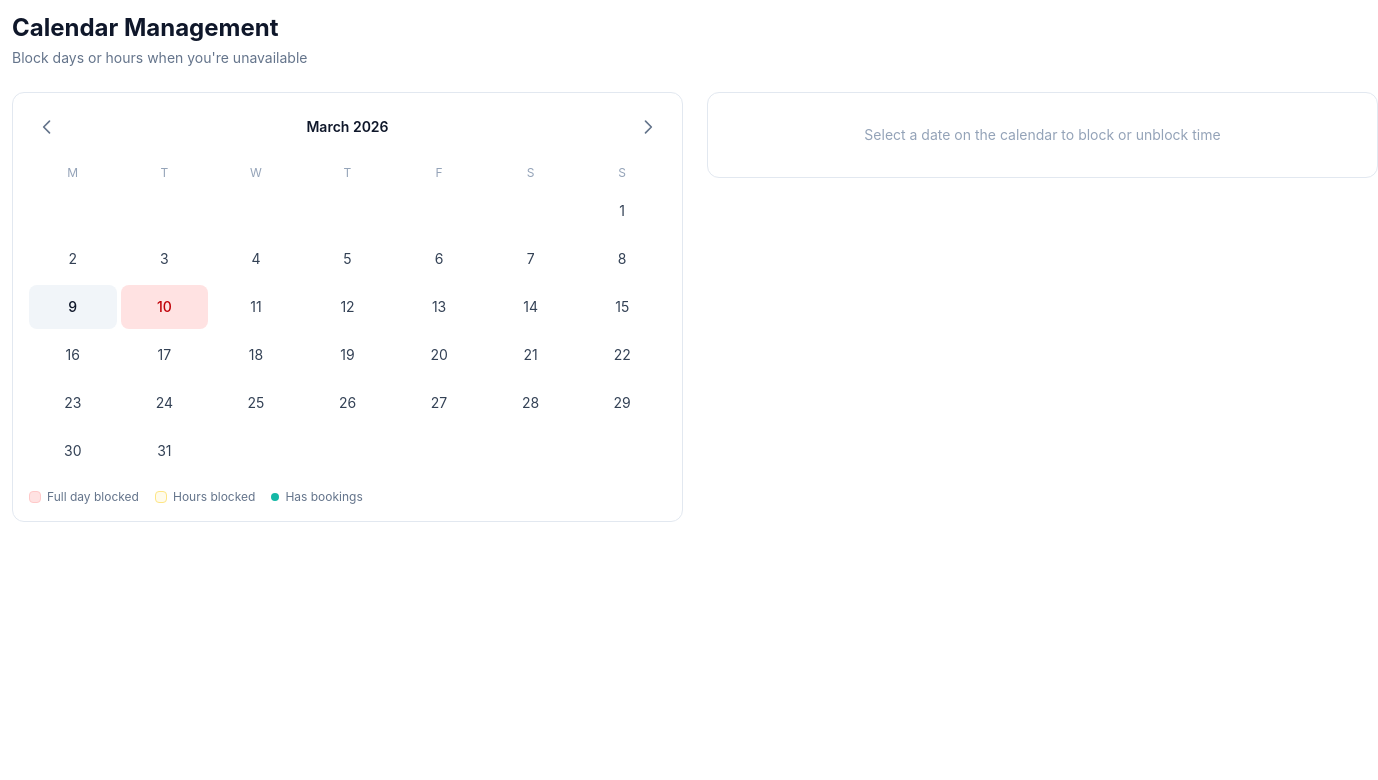
Scenario: Calendar Page › has Remove buttons for existing blocks
The width and height of the screenshot is (1378, 780).
Click the button "10" at [164, 307], box x1=121 y1=285 x2=208 y2=329
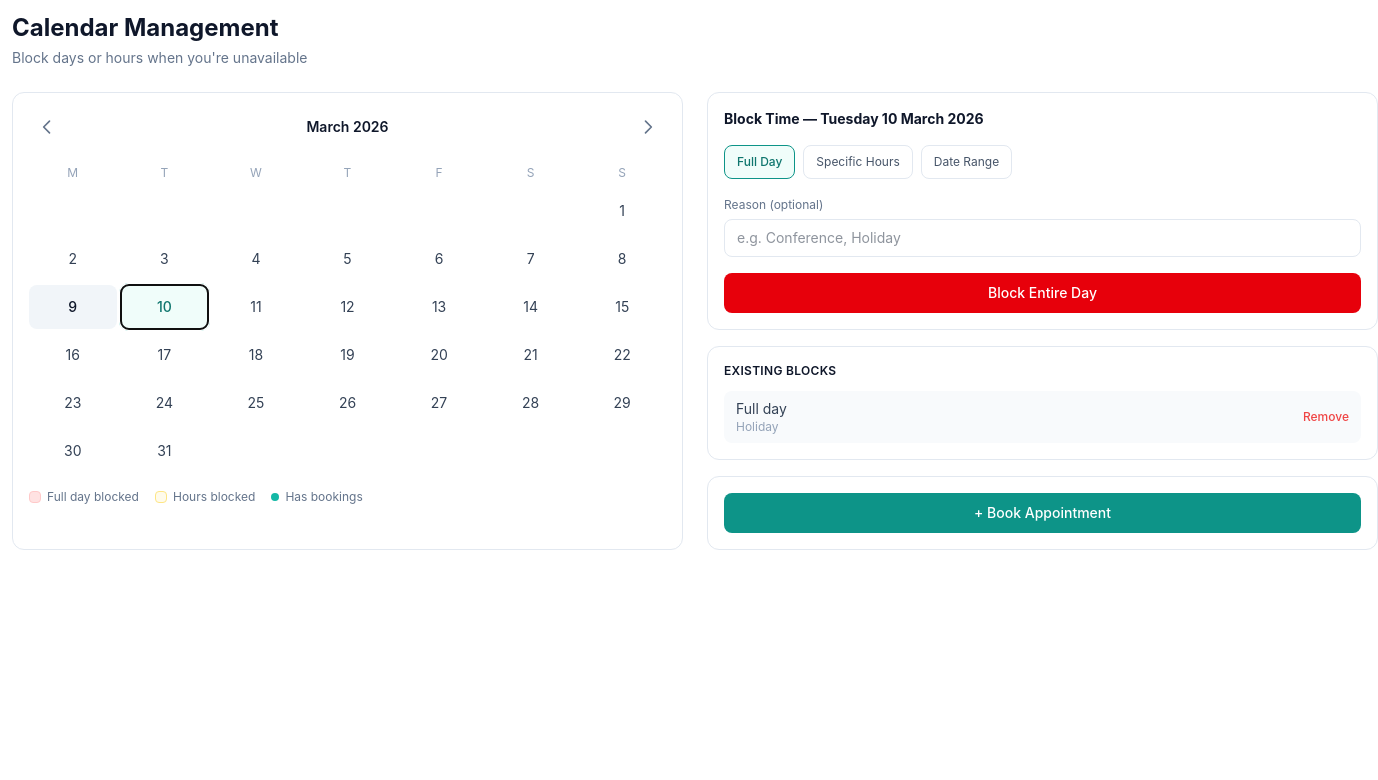
Expected: the button "Remove" is shown, x1=1303 y1=409 x2=1349 y2=425
